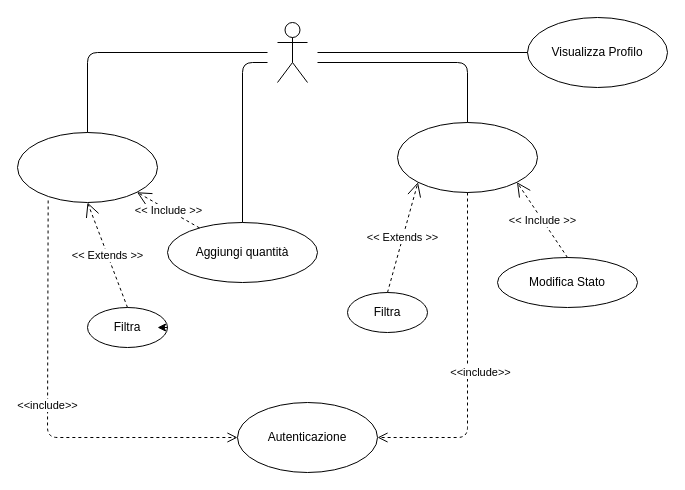
Some shapes in this 685 by 490 pixel diagram are drawn without their labels. Here are the shapes that lost their labels. From the top down, the centre of each, then its label:
At [292,52]: "Responsabile".
At [87,167]: "Visualizza Catalogo".
At [467,157]: "Visualizza Spese".
